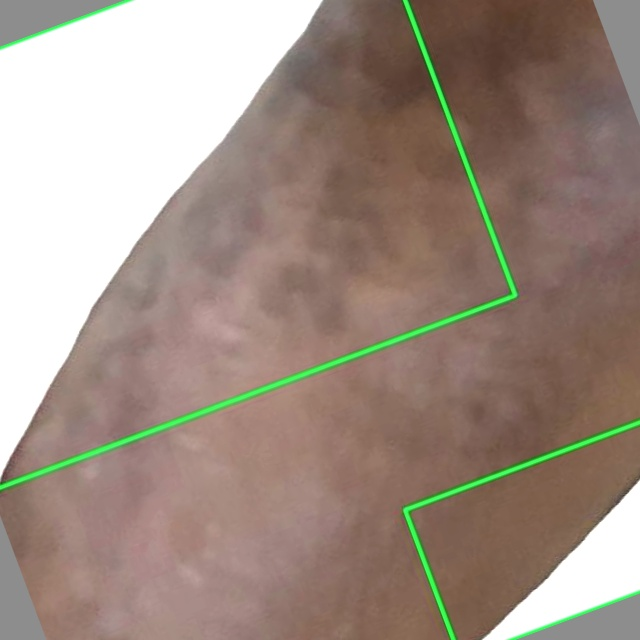Eczema: (0, 0, 515, 487), (406, 422, 639, 639)
